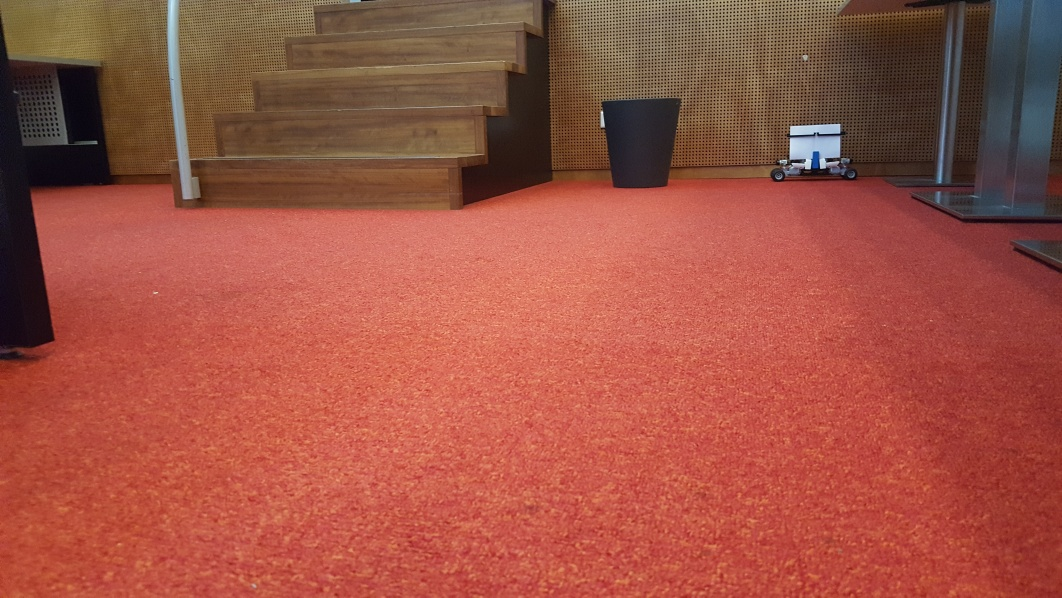car: (767, 121, 857, 185)
